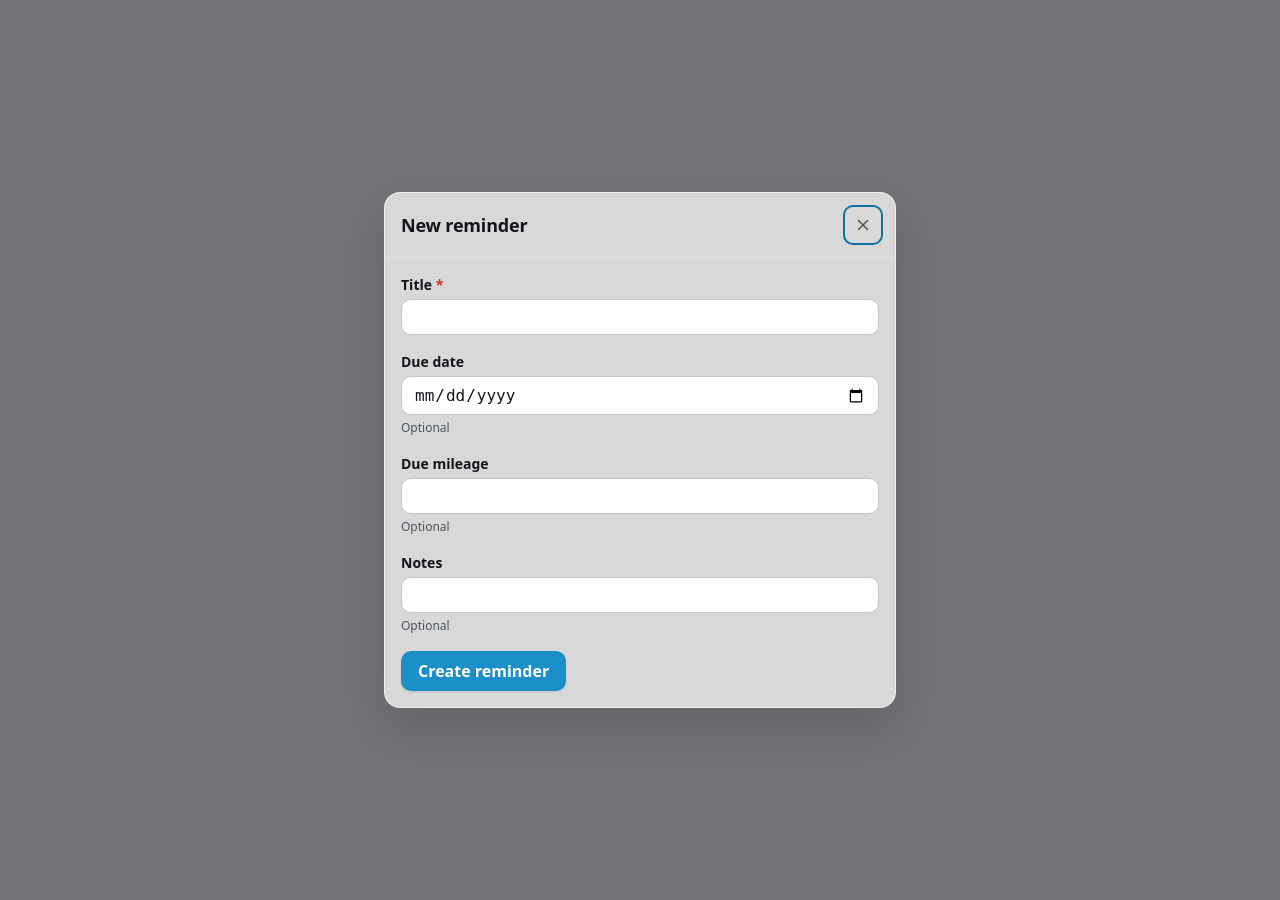
CreateReminderDialog › requires at least one of due date or due mileage
This screenshot has width=1280, height=900.
Type "Oil change" into the field labelled "Title *" at [640, 317], box [401,299,879,335]
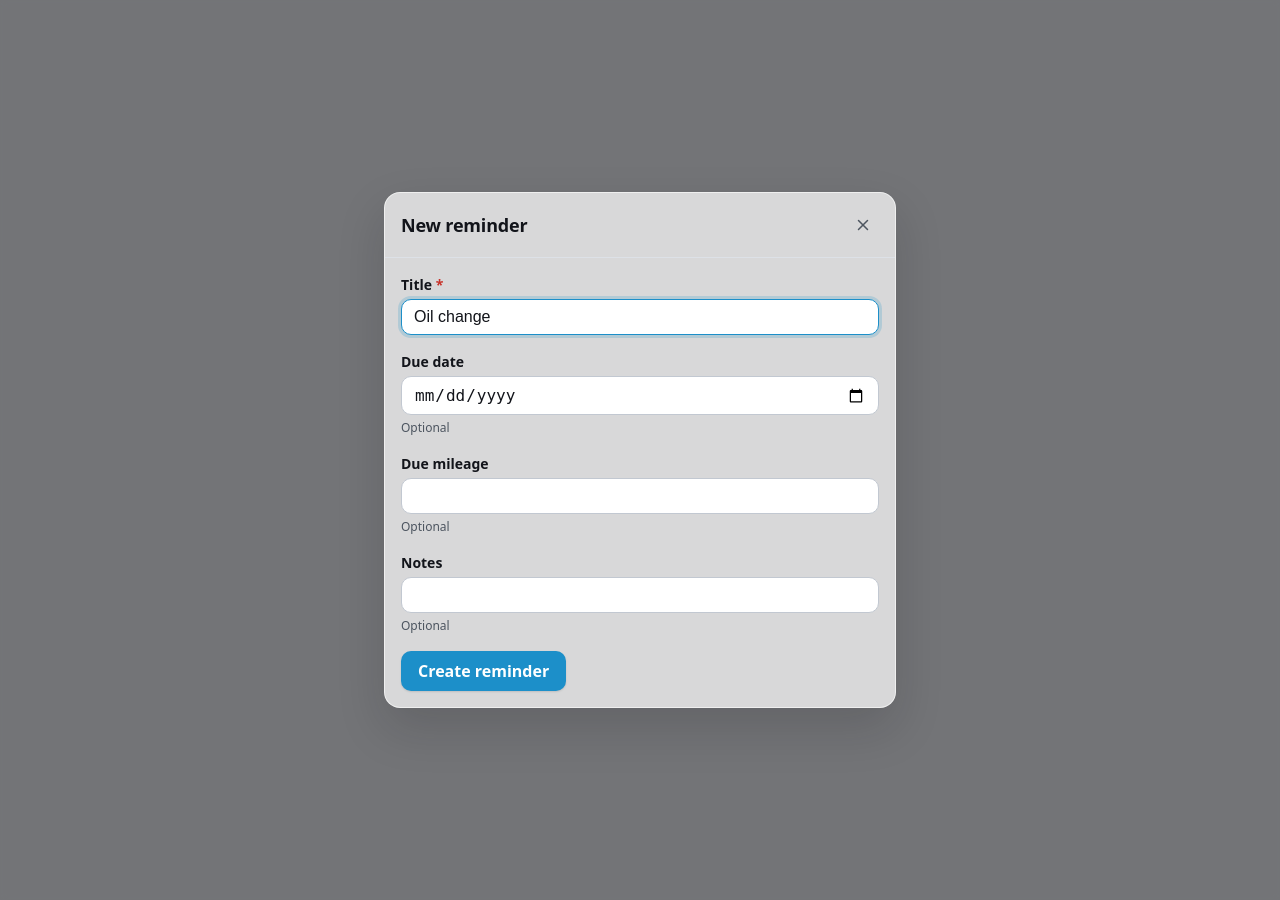
Click the button "Create reminder" at [484, 671], box [401,651,566,691]
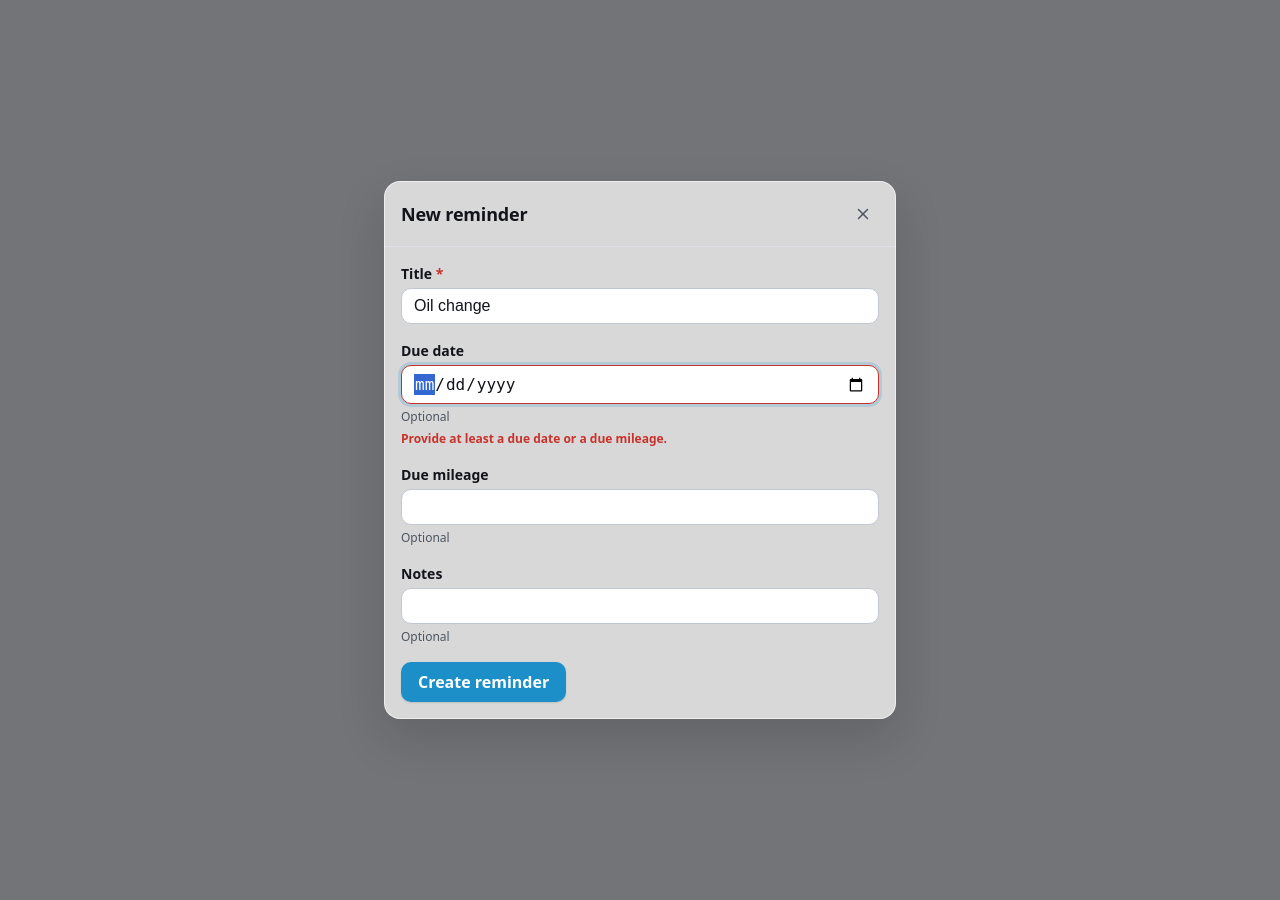
Now the text "Provide at least a due date or a due mileage." is shown, box [401,430,667,447]
